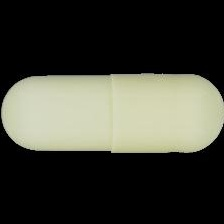64725-4067: (0, 0, 224, 224)
